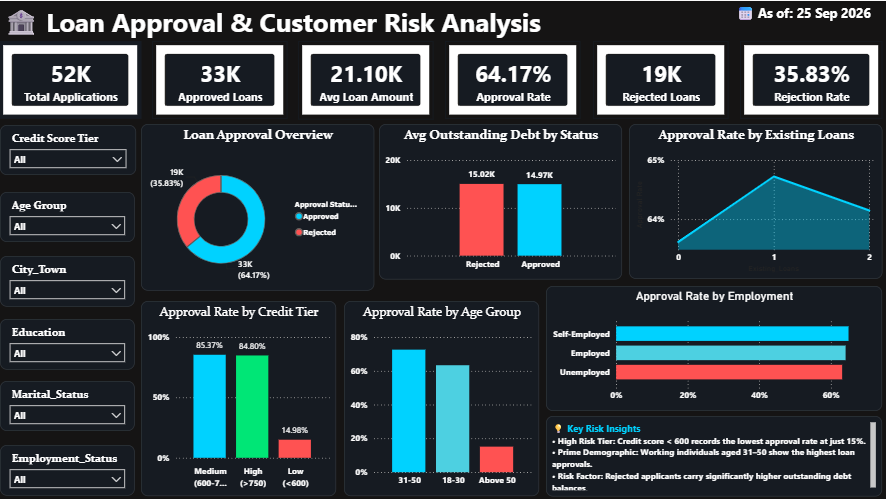

Layout of this report page (visuals, bound fields, positions):
{"tool":"powerbi","page":{"name":"Page 1","canvas":[1280,720],"ordinal":0},"visuals":[{"type":"textbox","box":[1.7,0,1048.2,89],"z":0},{"type":"cardVisual","fields":{"Data":["cleaned_loan_approval.Total Applications"]},"box":[0,57.1,205,112.3],"z":1000},{"type":"cardVisual","fields":{"Data":["cleaned_loan_approval.Approved Loans"]},"box":[220.1,57.1,195,112.3],"z":2000},{"type":"cardVisual","fields":{"Data":["cleaned_loan_approval.Avg Loan Amount"]},"box":[430,57.1,195,112.5],"z":3000},{"type":"cardVisual","fields":{"Data":["cleaned_loan_approval.Approval Rate"]},"box":[641.7,57.1,195,112.3],"z":4000},{"type":"cardVisual","fields":{"Data":["cleaned_loan_approval.Rejected Loans"]},"box":[855,57.1,195,112.3],"z":5000},{"type":"cardVisual","fields":{"Data":["cleaned_loan_approval.Rejection Rate"]},"box":[1066.7,57.1,205,112.3],"z":6000},{"type":"slicer","fields":{"Values":["cleaned_loan_approval.Credit Score Tier"]},"box":[1.4,178.6,195.8,72],"z":7000},{"type":"slicer","fields":{"Values":["cleaned_loan_approval.Education"]},"box":[1.4,457.9,194.4,73.4],"z":8000},{"type":"slicer","fields":{"Values":["cleaned_loan_approval.Age Group"]},"box":[1.4,275,194.4,72],"z":9000},{"type":"slicer","fields":{"Values":["cleaned_loan_approval.Marital_Status"]},"box":[1.4,547.2,194.4,72],"z":10000},{"type":"slicer","fields":{"Values":["cleaned_loan_approval.Employment_Status"]},"box":[1.4,639.4,194.4,73.4],"z":11000},{"type":"slicer","fields":{"Values":["cleaned_loan_approval.City_Town"]},"box":[1.4,367.2,194.4,73.4],"z":12000},{"type":"donutChart","title":"Loan Approval Overview","fields":{"Y":["cleaned_loan_approval.Total Applications"],"Category":["cleaned_loan_approval.Approval Status Name"]},"box":[204.5,177.1,335.5,240.5],"z":13000},{"type":"clusteredColumnChart","title":"Approval Rate by Credit Tier","fields":{"Category":["cleaned_loan_approval.Credit Score Tier"],"Y":["cleaned_loan_approval.Approval Rate"]},"box":[204.5,432,280.8,280.8],"z":14000},{"type":"clusteredColumnChart","title":"Approval Rate by Age Group","fields":{"Category":["cleaned_loan_approval.Age Group"],"Y":["cleaned_loan_approval.Approval Rate"]},"box":[497.2,431.7,280.5,280.5],"z":15000},{"type":"clusteredBarChart","title":"Approval Rate by Employment","fields":{"Category":["cleaned_loan_approval.Employment_Status"],"Y":["cleaned_loan_approval.Approval Rate"]},"box":[787.8,409.9,483.8,179.7],"z":16000},{"type":"clusteredColumnChart","title":"Avg Outstanding Debt by Status","fields":{"Y":["Avg(cleaned_loan_approval.Outstanding_Debt)"],"Category":["cleaned_loan_approval.Approval Status Name"]},"box":[547.6,177.8,350.4,223.6],"z":17000},{"type":"areaChart","title":"Approval Rate by Existing Loans","fields":{"Y":["cleaned_loan_approval.Approval Rate"],"Category":["cleaned_loan_approval.Existing_Loans"]},"box":[907.2,177.1,365,223],"z":18000},{"type":"textbox","box":[787.8,598,483.8,115.9],"z":19000},{"type":"textbox","box":[1044.8,0,215,57.1],"z":20000}]}

Visuals, with their boxes in screenshot pixels (x1, y1, x2, y2), scaled from the page's 1280x720 canvas onto the 886x499 screenshot:
textbox: (1,0,727,62)
cardVisual - cleaned_loan_approval.Total Applications: (0,40,142,117)
cardVisual - cleaned_loan_approval.Approved Loans: (152,40,287,117)
cardVisual - cleaned_loan_approval.Avg Loan Amount: (298,40,433,118)
cardVisual - cleaned_loan_approval.Approval Rate: (444,40,579,117)
cardVisual - cleaned_loan_approval.Rejected Loans: (592,40,727,117)
cardVisual - cleaned_loan_approval.Rejection Rate: (738,40,880,117)
slicer - cleaned_loan_approval.Credit Score Tier: (1,124,136,174)
slicer - cleaned_loan_approval.Education: (1,317,136,368)
slicer - cleaned_loan_approval.Age Group: (1,191,136,240)
slicer - cleaned_loan_approval.Marital_Status: (1,379,136,429)
slicer - cleaned_loan_approval.Employment_Status: (1,443,136,494)
slicer - cleaned_loan_approval.City_Town: (1,254,136,305)
"Loan Approval Overview" donutChart: (142,123,374,289)
"Approval Rate by Credit Tier" clusteredColumnChart: (142,299,336,494)
"Approval Rate by Age Group" clusteredColumnChart: (344,299,538,494)
"Approval Rate by Employment" clusteredBarChart: (545,284,880,409)
"Avg Outstanding Debt by Status" clusteredColumnChart: (379,123,622,278)
"Approval Rate by Existing Loans" areaChart: (628,123,881,277)
textbox: (545,414,880,495)
textbox: (723,0,872,40)
